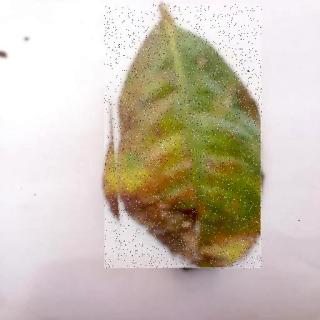Algal Leaf: (106, 6, 264, 270)
